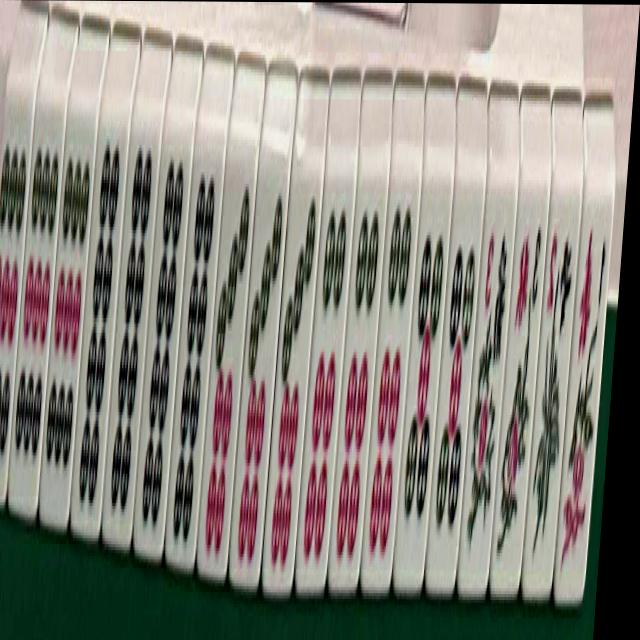f2: (521, 190, 583, 592)
f3: (457, 193, 517, 591)
ff1: (554, 197, 614, 589)
ff3: (489, 190, 550, 595)
t5: (423, 183, 486, 603), (391, 176, 454, 590)
t6: (294, 169, 357, 593), (360, 172, 421, 586), (327, 176, 389, 580)
t7: (260, 165, 324, 596), (228, 156, 291, 578), (196, 149, 258, 574)
t8: (163, 142, 227, 566), (68, 112, 131, 532), (100, 128, 163, 547), (132, 132, 194, 551)
t9: (37, 111, 99, 530), (6, 121, 66, 512), (0, 91, 36, 502)
